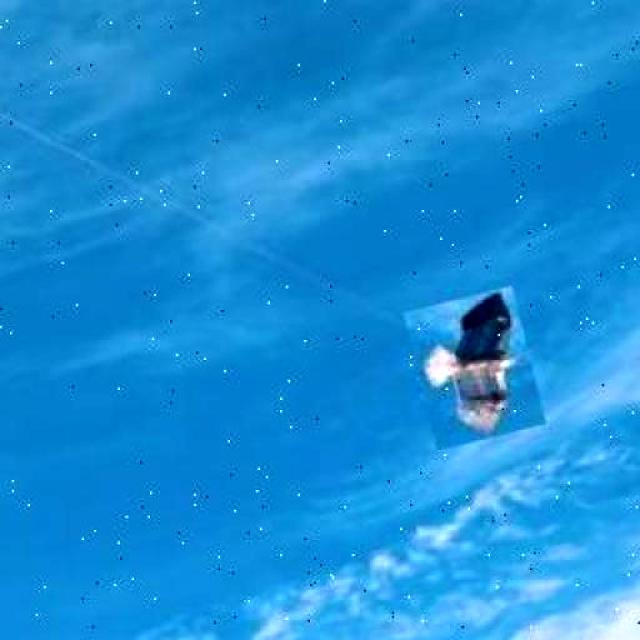airplane: (402, 285, 545, 449)
